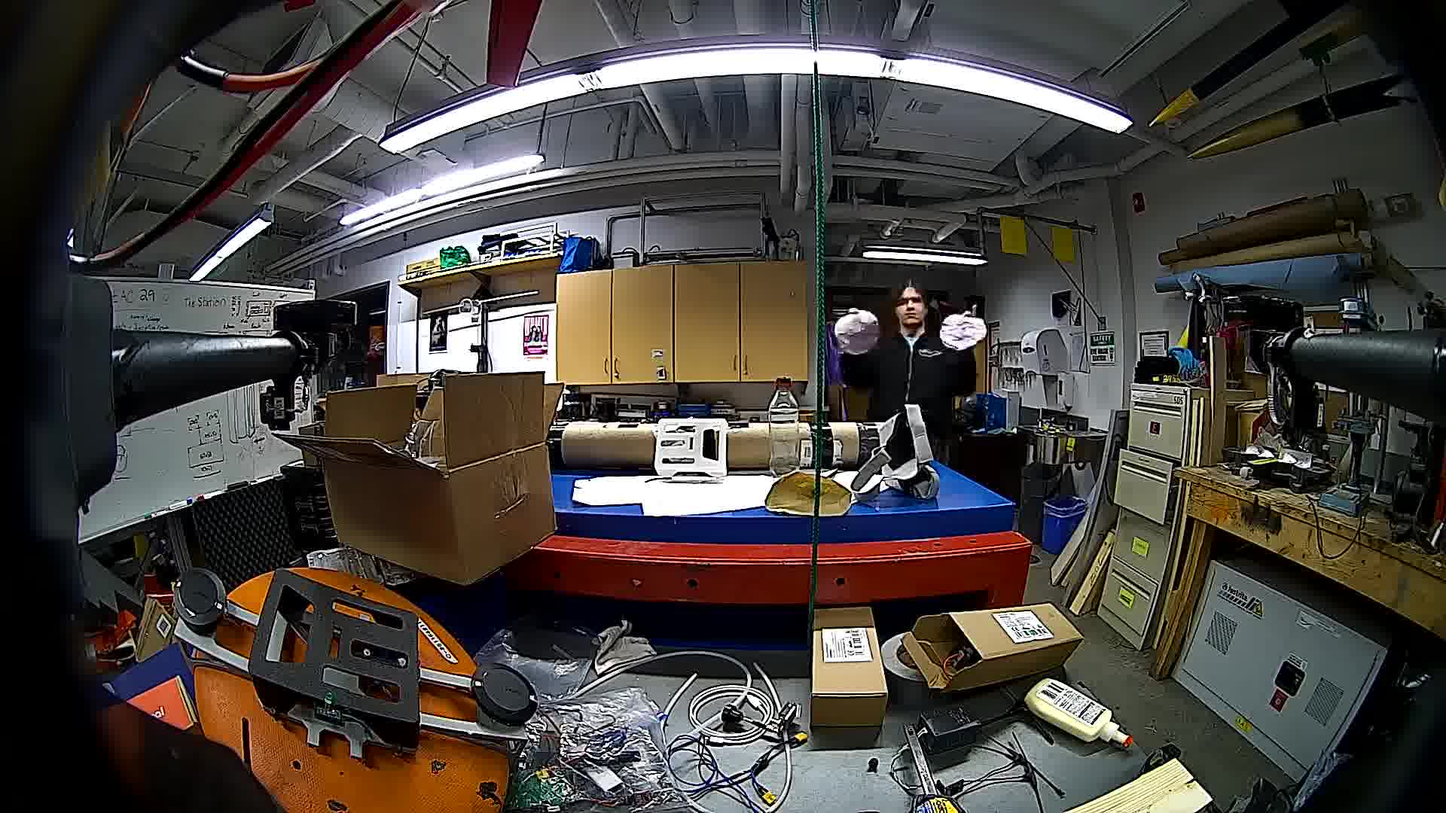Target: (832, 307, 882, 357), (939, 308, 989, 354)
